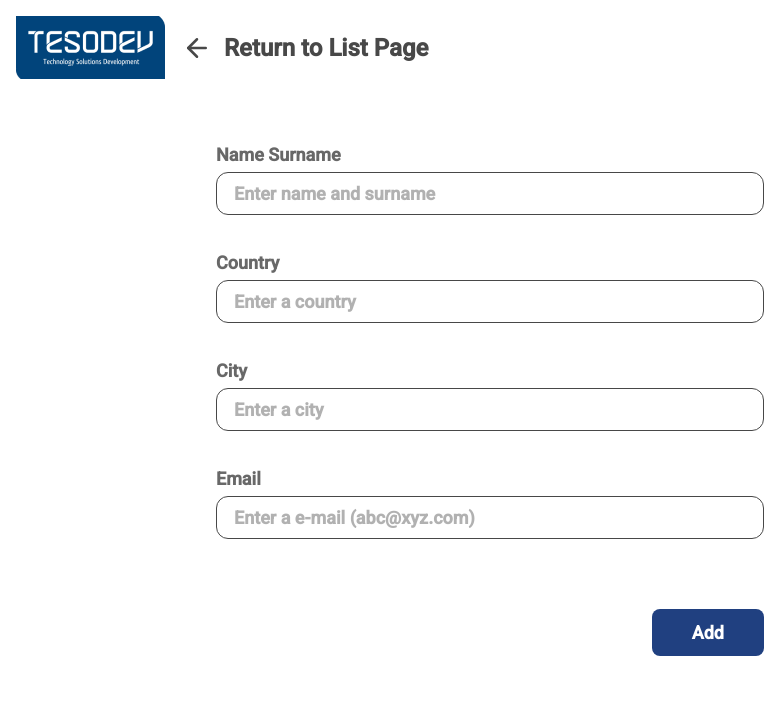
incorrect data check › empty email check
The width and height of the screenshot is (781, 708).
Expected: the field with test id "email" is shown, [216,496,764,539]
Click the button "Add". click: [708, 632]
box: [652,609,764,656]
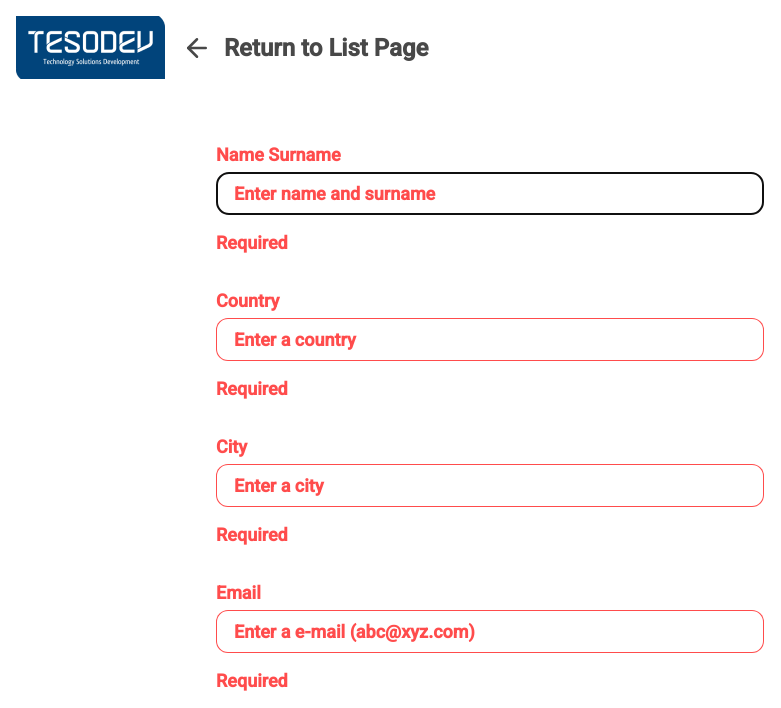
Expected: the text with test id "errorMessage" below "Email" reads "Required", [216,670,288,691]
